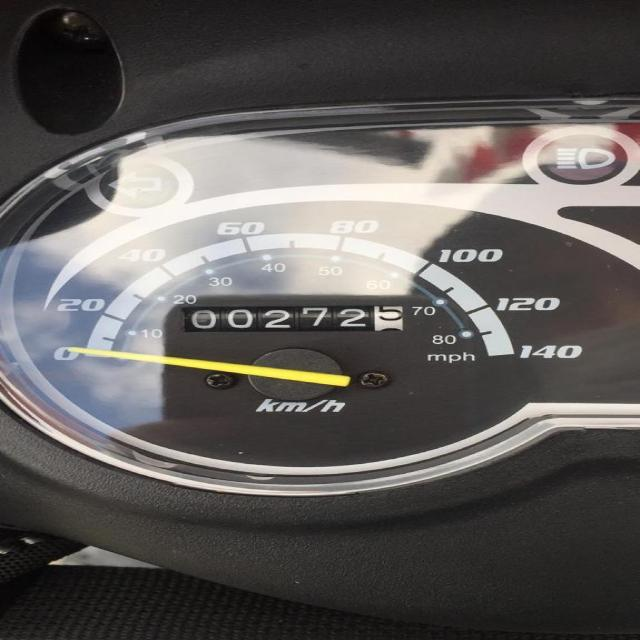odometer: (177, 303, 407, 334)
